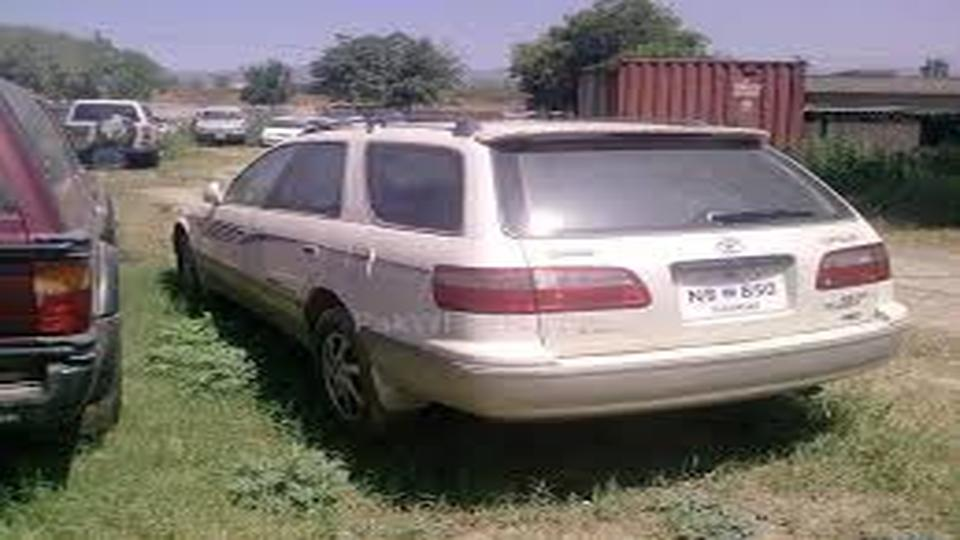NumberPlate: (666, 266, 807, 321)
